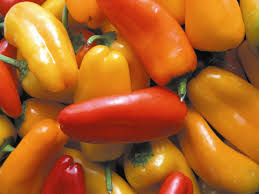bell pepper: (95, 1, 203, 95), (52, 83, 196, 148), (155, 103, 259, 187), (176, 56, 259, 151), (1, 4, 82, 91), (110, 135, 181, 194), (4, 127, 60, 194), (38, 140, 85, 194), (68, 144, 116, 194)
